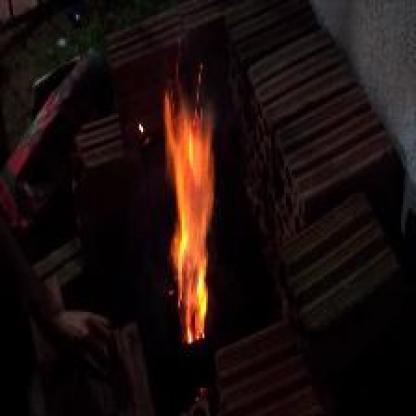fire: (157, 97, 222, 352)
